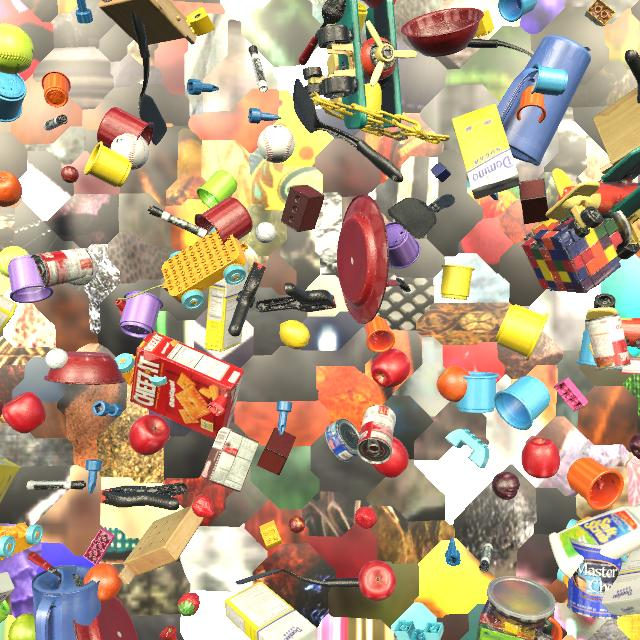ycb_002_master_chef_can: (567, 537, 622, 619)
ycb_003_cracker_box: (130, 331, 244, 439)
ycb_004_sugar_box: (452, 104, 520, 200), (225, 582, 317, 640), (205, 261, 248, 351), (601, 547, 640, 616), (0, 458, 20, 503), (0, 295, 17, 332), (0, 572, 15, 604)
ycb_005_tomato_soup_can: (30, 248, 94, 289), (585, 313, 631, 370), (357, 405, 396, 464)
ycb_007_tuna_fish_can: (325, 419, 360, 462)
ycb_008_pudding_box: (200, 427, 259, 492)
ycb_009_gelatin_box: (621, 357, 640, 374)
ycb_012_strawberry: (178, 592, 200, 617), (354, 506, 377, 529), (192, 494, 214, 518)
ycb_013_apple: (2, 392, 46, 434), (129, 414, 170, 455), (371, 348, 411, 388), (521, 437, 560, 478), (358, 560, 396, 601), (372, 437, 409, 478)
ycb_014_lemon: (280, 320, 310, 350)
ycb_015_peach: (0, 399, 4, 417)
ycb_016_pear: (8, 613, 36, 640)
ycb_017_orange: (83, 563, 122, 602), (437, 366, 471, 402), (0, 171, 22, 207)
ycb_018_plum: (492, 472, 520, 500), (629, 433, 640, 460)
